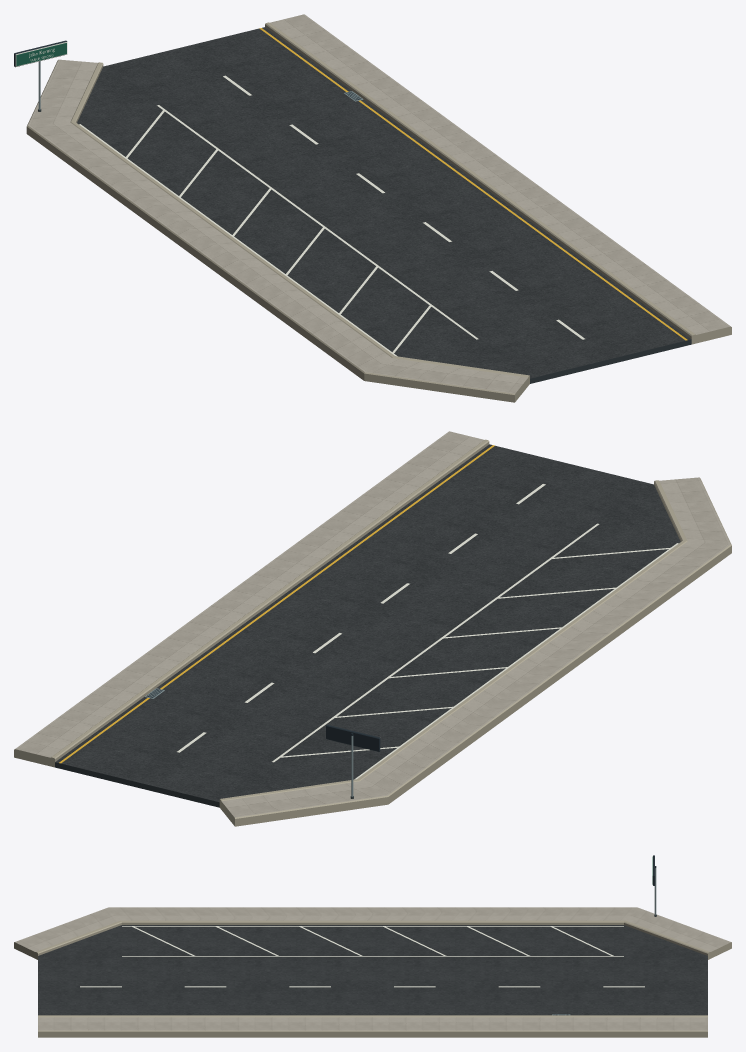
3 views of the same model, one above another, from view 1: azimuth 30°, elevation 25°; view 2: azimuth 150°, elevation 25°; view 3: azimuth 270°, elevation 25° (orthographic). The views are drawn at different scales.
Parts seen in each view (by area): view 1: Road Deck, Kerbs and Footways, Parking Bay, Road Markings, Local Street Signs; view 2: Road Deck, Kerbs and Footways, Parking Bay, Road Markings, Local Street Signs; view 3: Road Deck, Kerbs and Footways, Parking Bay, Road Markings.
Boxes of the visible parts, x1,y1,x2,y2 form: Road Deck: (103, 27, 691, 383); Kerbs and Footways: (26, 14, 731, 402); Parking Bay: (77, 67, 523, 374); Road Markings: (79, 28, 687, 356); Local Street Signs: (14, 40, 67, 111); Road Deck: (55, 444, 653, 807); Kerbs and Footways: (14, 431, 731, 826); Parking Bay: (226, 484, 680, 797); Road Markings: (59, 445, 678, 779); Local Street Signs: (326, 725, 380, 798); Road Deck: (38, 956, 707, 1015); Kerbs and Footways: (14, 907, 731, 1037); Parking Bay: (39, 925, 706, 955); Road Markings: (80, 926, 644, 987).
Size of the model in its own units: 14.09 by 3.04 by 34.3.
Materials: 11 (2 with a texture image).
